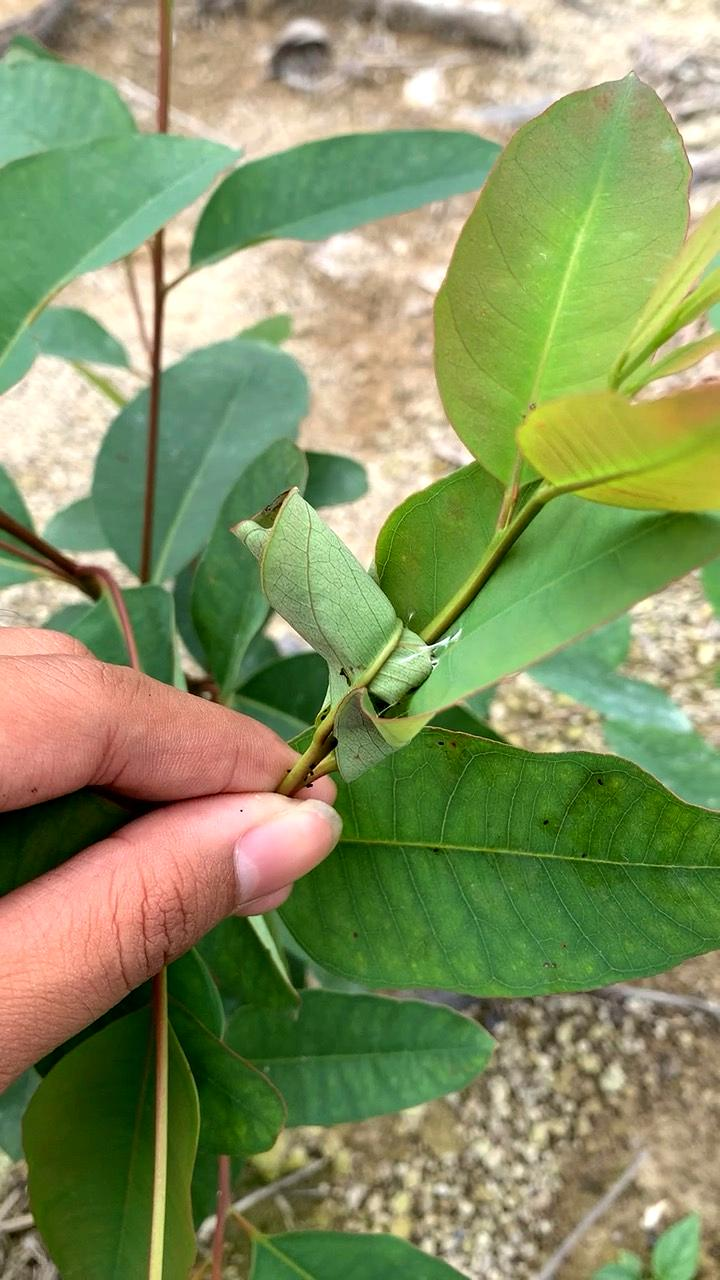Leaf Roller - Leaf: (223, 468, 485, 790)
